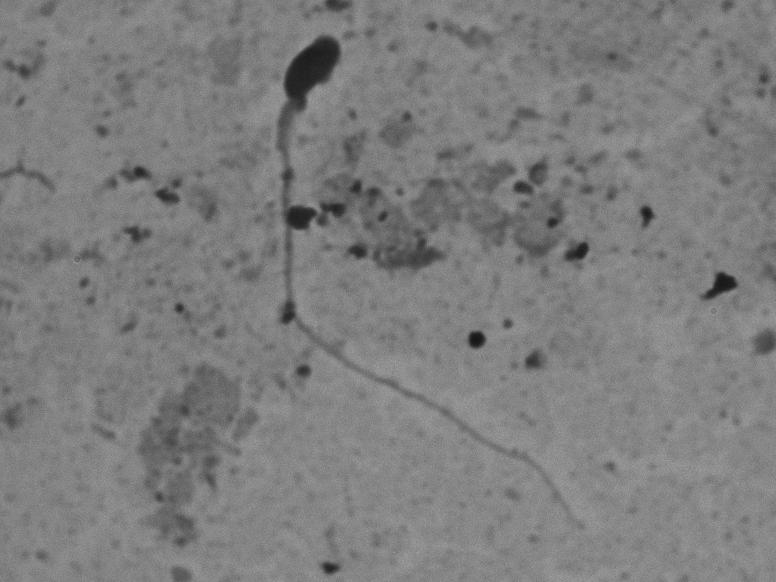Abnormal: (222, 25, 582, 545)
